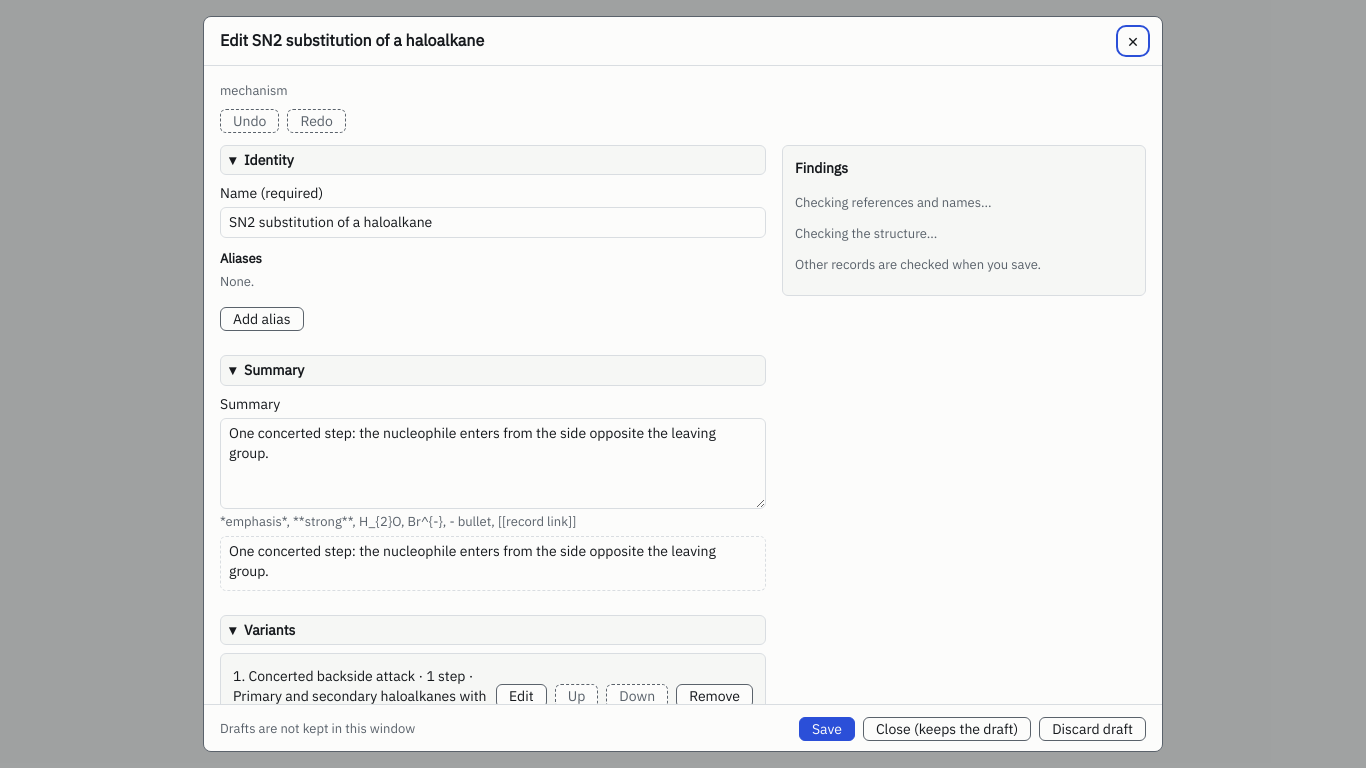
Test: CHEM-008 and the MEC rules mark their row › a CHEM-008 finding at a bond row marks that row and its step, and the finding opens the row
Click the button "Edit".
click(521, 696)  # box [496, 684, 547, 708]
(page scrolled)
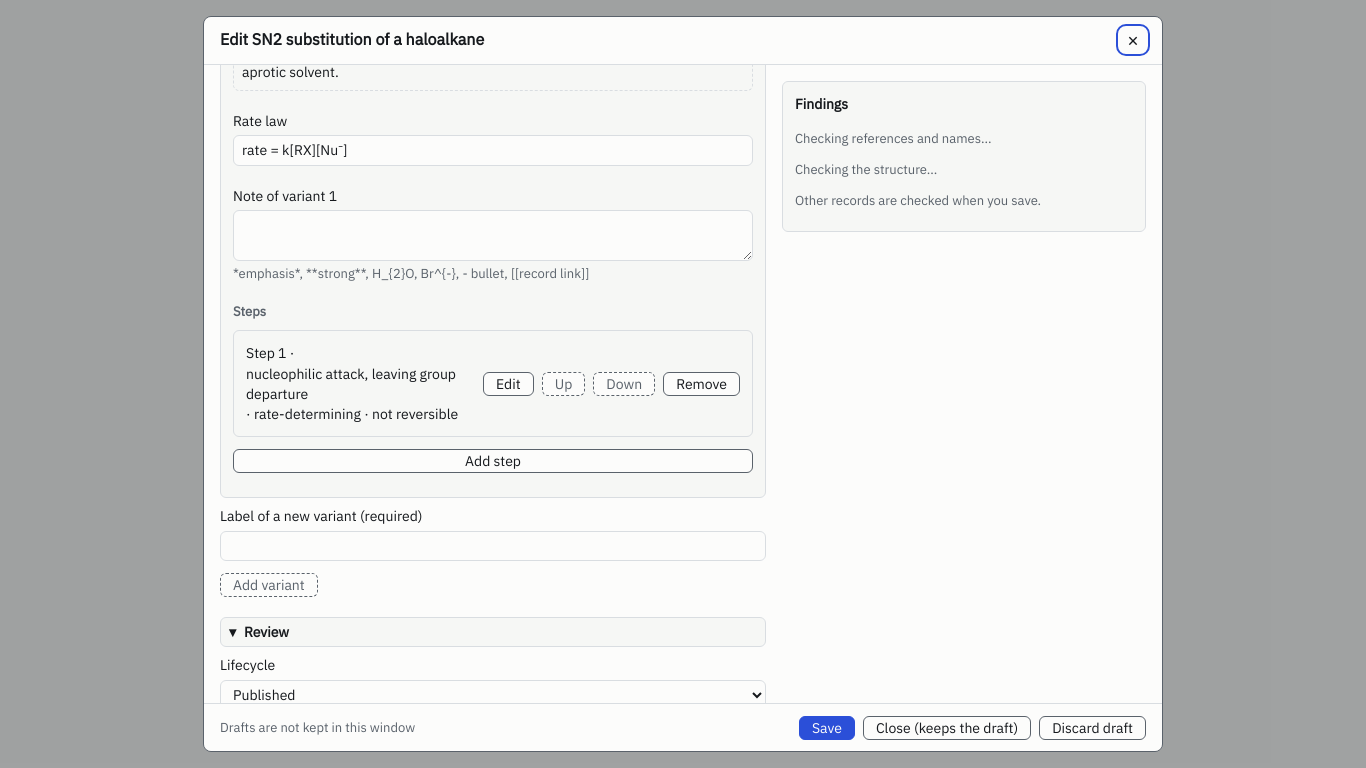
Click the button with aria-label "Edit step 1".
click(508, 384)  # box [483, 372, 534, 396]
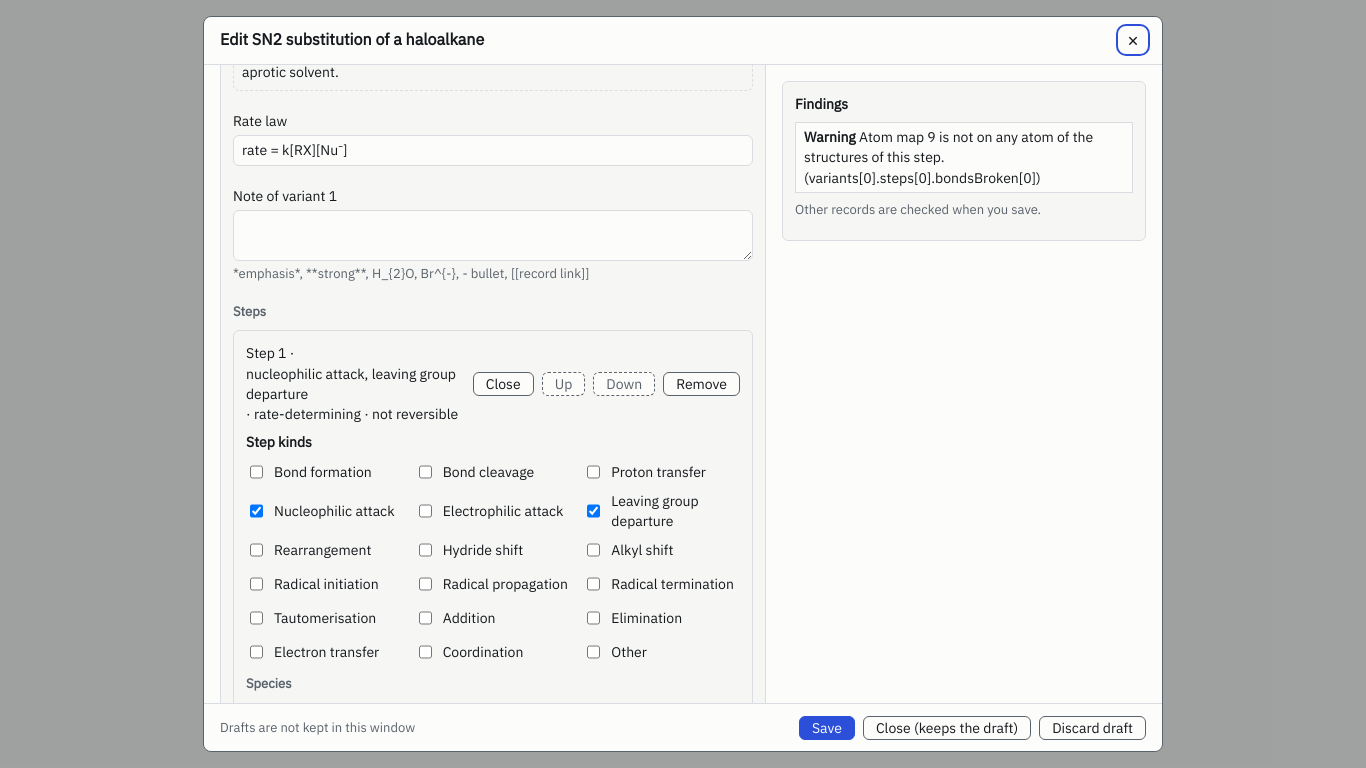
Now the button "Atom map 9 is not on any atom" is shown, box [795, 122, 1133, 193]
